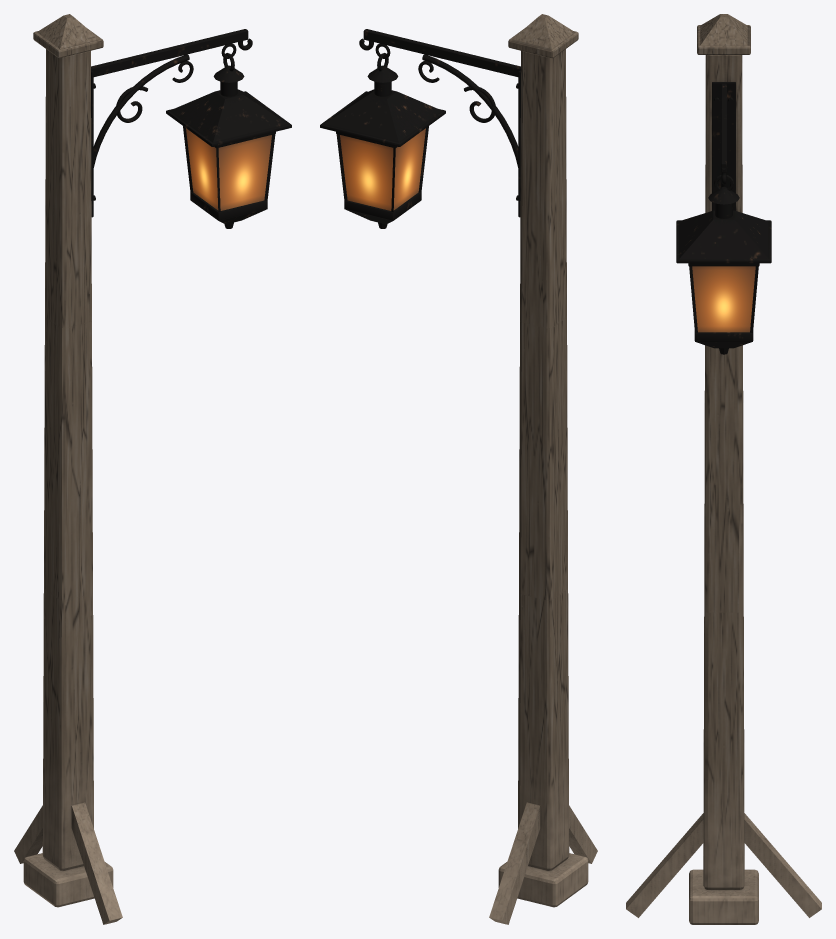
Rendered from street-lamp.glb.
3 renders of one model, left to right at view 1: azimuth 30°, elevation 25°; view 2: azimuth 150°, elevation 25°; view 3: azimuth 270°, elevation 25°, orthographic. The views are drawn at different scales.
Visible parts, largest first — view 1: lamp-post, lamp-lantern, lamp-glass; view 2: lamp-post, lamp-lantern, lamp-glass; view 3: lamp-post, lamp-lantern, lamp-glass.
Part boxes in pixels (x1=…): lamp-post: x1=14, y1=14, x2=252, y2=924; lamp-lantern: x1=166, y1=65, x2=291, y2=228; lamp-glass: x1=186, y1=128, x2=271, y2=210; lamp-post: x1=359, y1=14, x2=597, y2=924; lamp-lantern: x1=320, y1=65, x2=445, y2=228; lamp-glass: x1=340, y1=128, x2=425, y2=210; lamp-post: x1=626, y1=14, x2=821, y2=924; lamp-lantern: x1=676, y1=187, x2=771, y2=354; lamp-glass: x1=692, y1=266, x2=755, y2=332.
Size of the model in its own units: 0.86 by 3.13 by 0.618.
2 materials, 1 textured.
